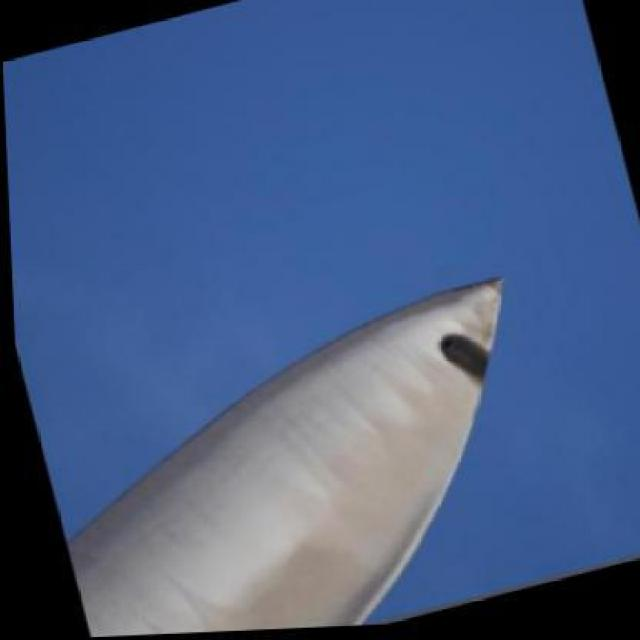Burn Mark: (432, 326, 493, 392)
